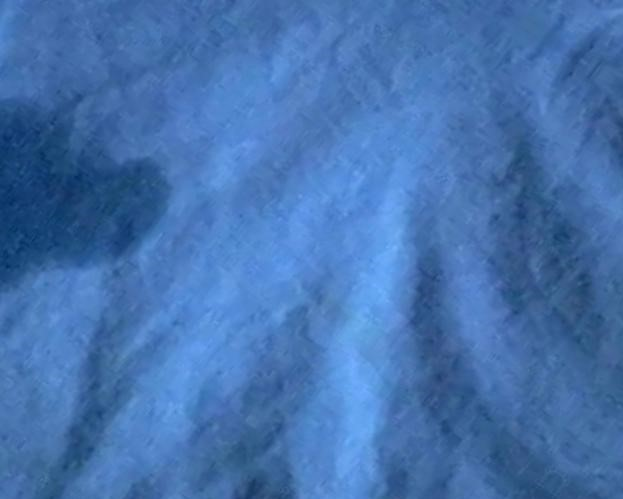stain: (1, 87, 175, 303)
